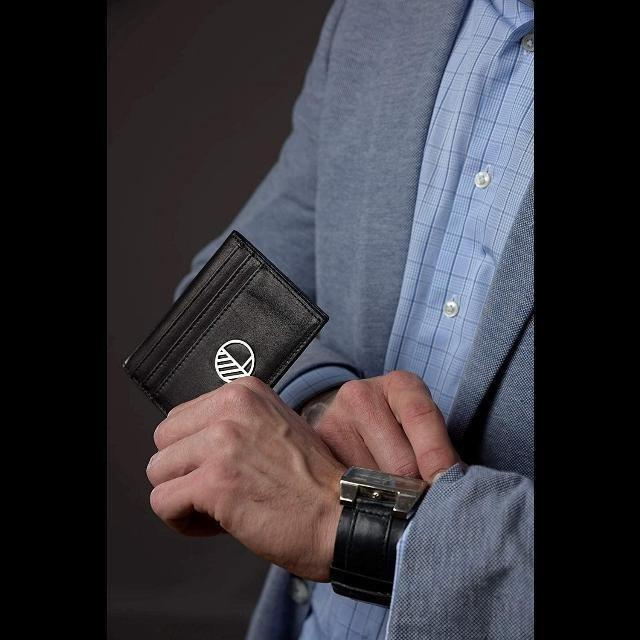Wallet: (118, 231, 324, 439)
